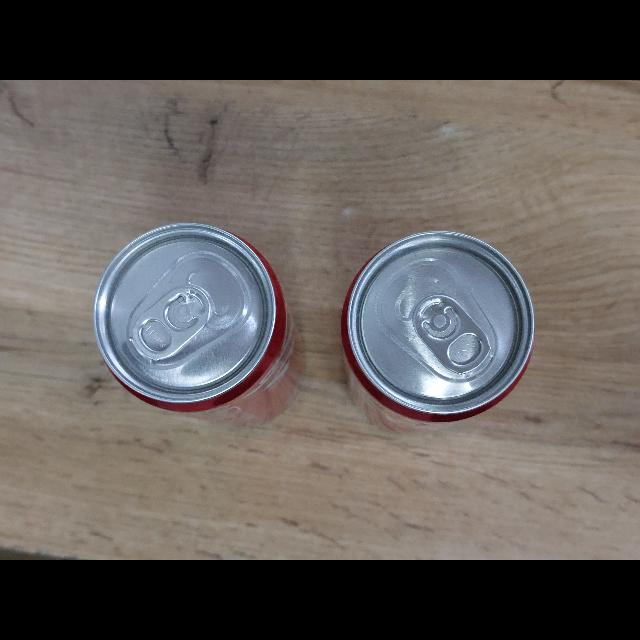coca_cola: (93, 223, 301, 424), (341, 232, 534, 428)
